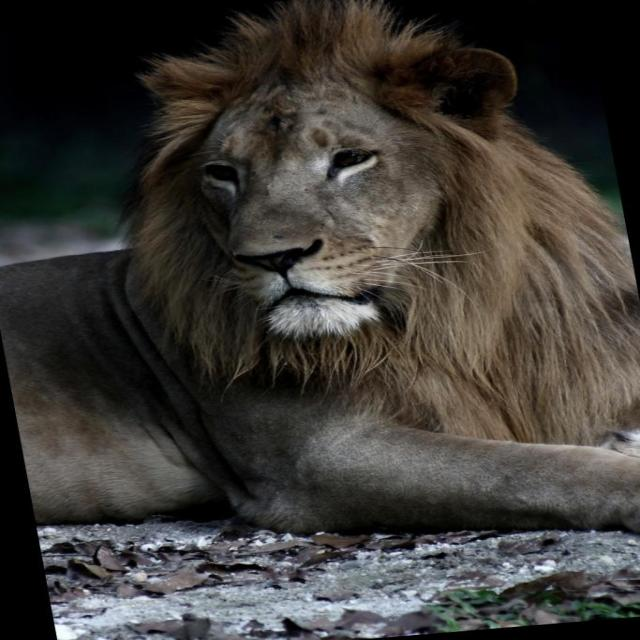Lion: (0, 0, 639, 596)
